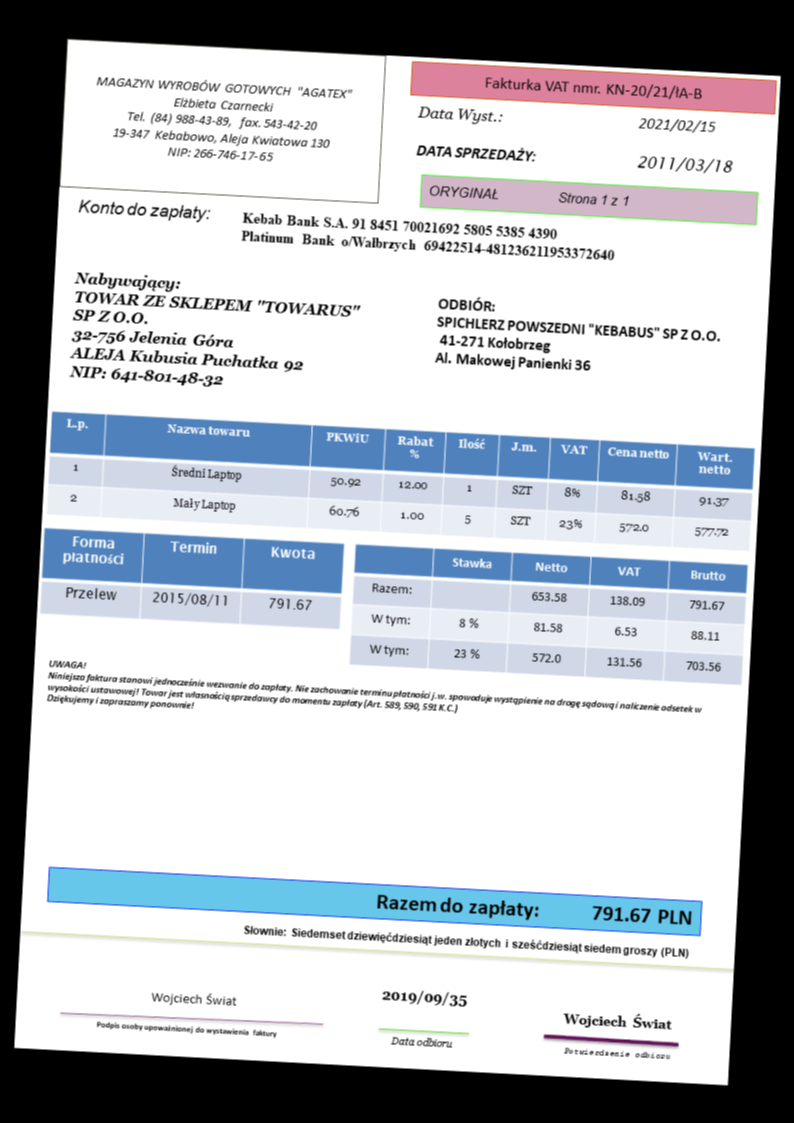Table: (43, 407, 756, 553), (346, 543, 749, 687), (38, 525, 345, 632)
TextBox: (43, 655, 705, 738), (66, 268, 362, 398), (431, 293, 728, 381), (88, 73, 357, 168), (236, 206, 617, 266), (238, 919, 692, 961), (370, 887, 694, 930), (478, 71, 706, 102), (426, 180, 635, 210), (92, 1017, 281, 1040), (72, 194, 213, 222), (412, 138, 536, 167), (555, 1007, 676, 1034), (634, 149, 736, 176), (414, 101, 507, 126), (145, 985, 238, 1010), (376, 985, 471, 1009), (637, 110, 717, 138), (559, 1043, 672, 1062), (388, 1030, 454, 1051)
